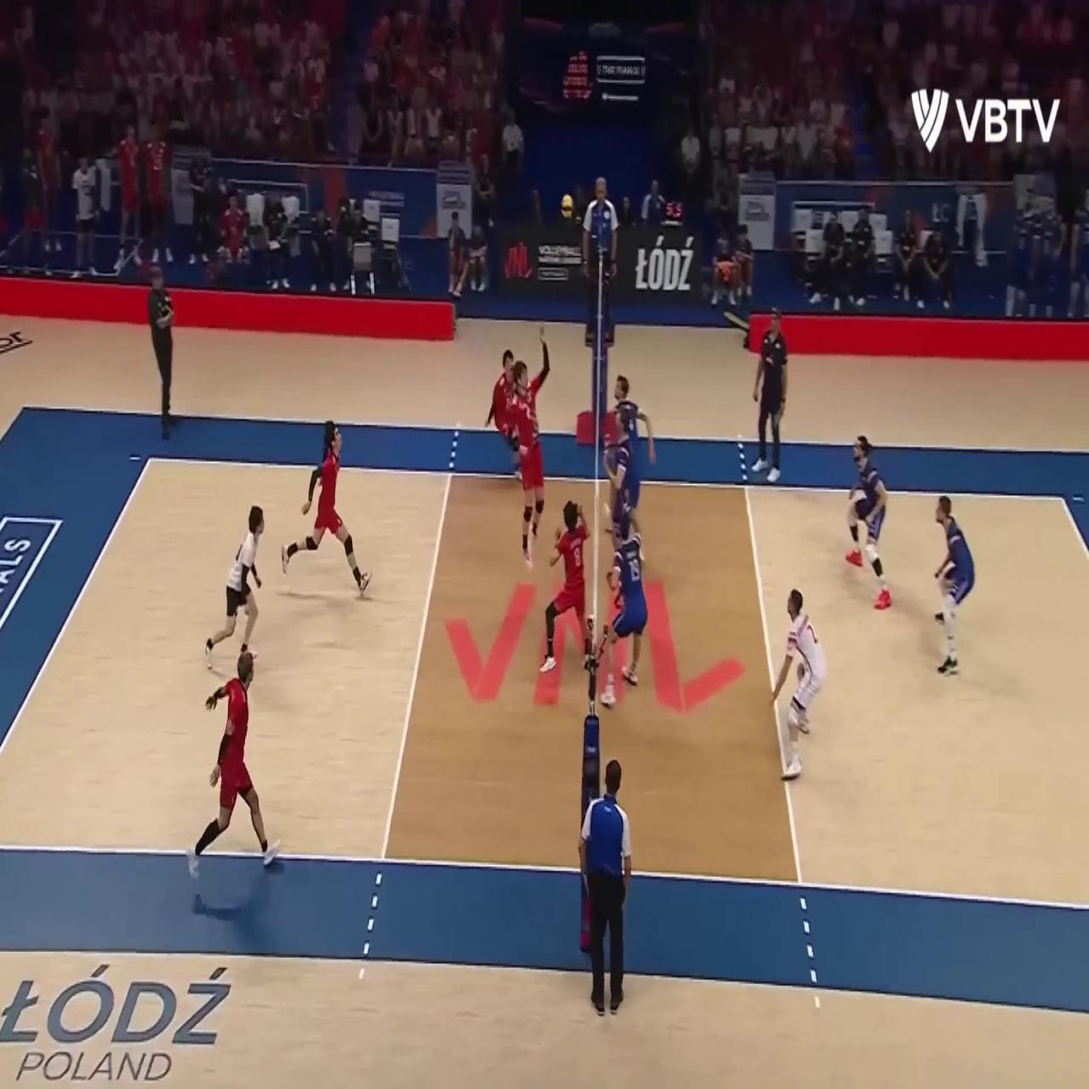ball: (561, 195, 573, 219)
